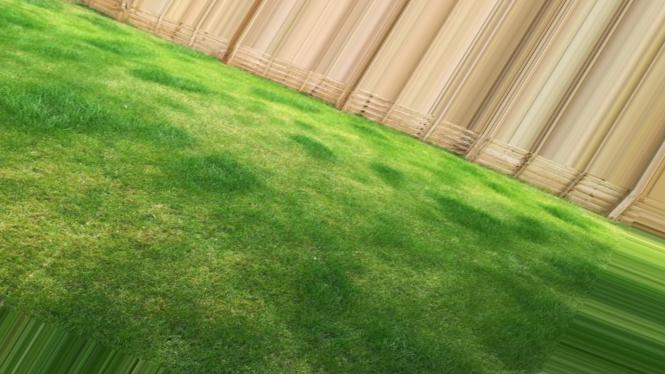patch: (45, 148, 129, 203), (58, 219, 124, 252), (261, 95, 307, 133)
